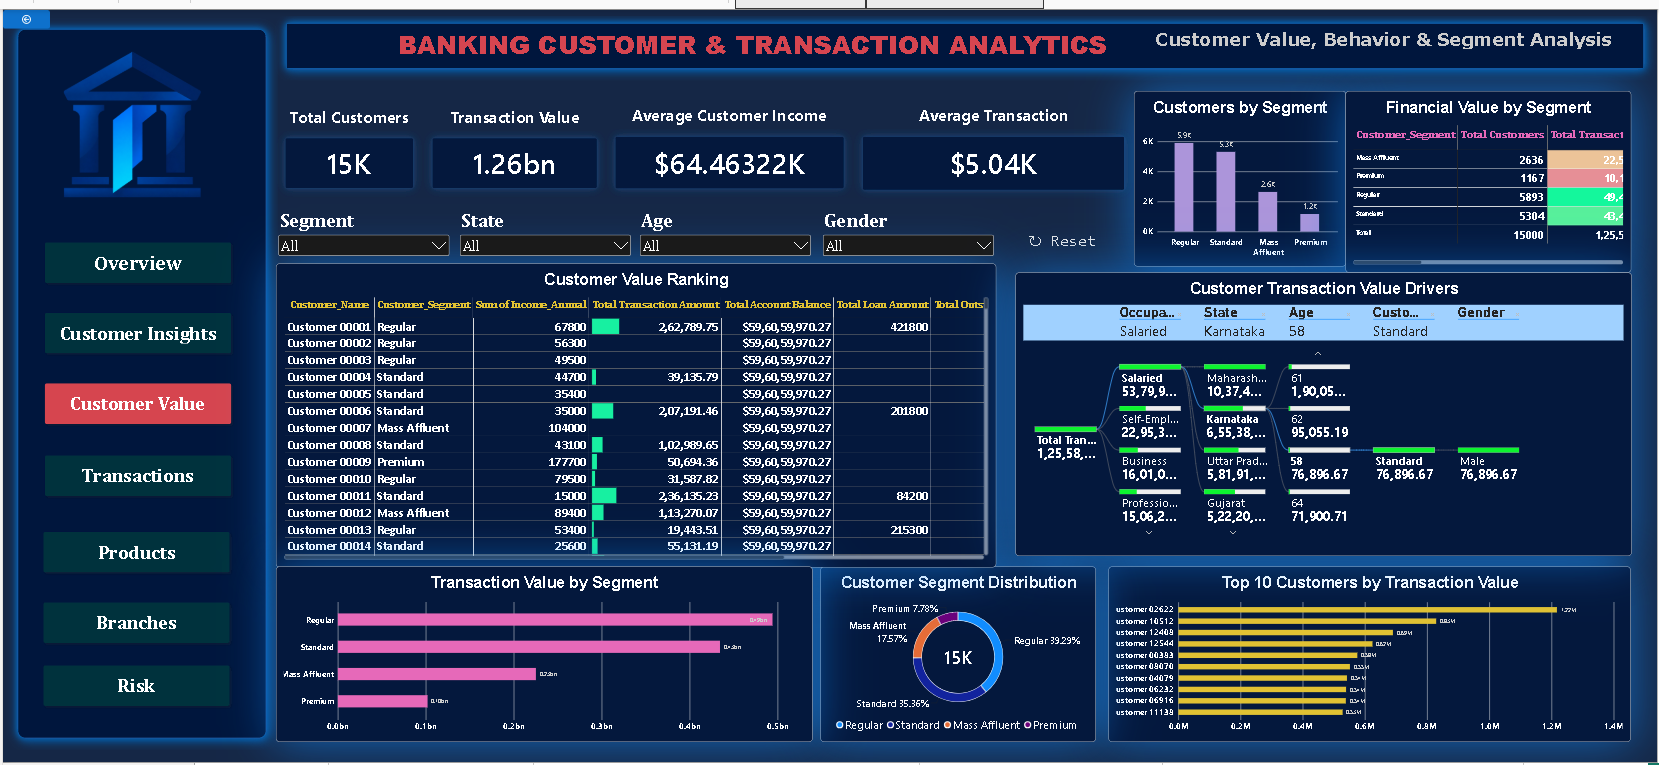

Layout of this report page (visuals, bound fields, positions):
{"tool":"powerbi","page":{"name":"Customer Segmentation & Profitability","canvas":[3520,1600],"ordinal":2},"visuals":[{"type":"cardVisual","title":"Average Customer Income","fields":{"Data":["Dim_Customers.Average Customer Income"]},"box":[1284.1,202.4,526.2,198.7],"z":0},{"type":"clusteredBarChart","title":"Top 10 Customers by Transaction Value","fields":{"Category":["Dim_Customers.Customer_Name"],"Y":["Fact_Transactions.Total Transaction Amount"]},"box":[2353.5,1185.4,1111.6,373.4],"z":1000},{"type":"clusteredColumnChart","title":"Customers by Segment","fields":{"Category":["Dim_Customers.Customer_Segment"],"Y":["Dim_Customers.Total Customers"]},"box":[2405.6,173.7,451.6,373.4],"z":2000},{"type":"donutChart","title":"Customer Segment Distribution","fields":{"Category":["Dim_Customers.Customer_Segment"],"Y":["Dim_Customers.Total Customers"]},"box":[1741.2,1185.4,586.2,373.4],"z":3000},{"type":"pivotTable","title":"Financial Value by Segment","fields":{"Rows":["Dim_Customers.Customer_Segment"],"Values":["Dim_Customers.Total Customers","Fact_Transactions.Total Transaction Amount","Dim_Accounts.Total Account Balance","Fact_Loans.Total Loan Amount","Fact_Credit_Cards.Total Outstanding Credit Card Amount"]},"box":[2857.1,173.7,607.9,386.5],"z":4000},{"type":"shape","box":[5,15,578.8,1558.8],"z":5000},{"type":"shape","box":[578.6,3.6,2939.3,146.4],"z":6000},{"type":"textbox","box":[839.3,35.7,2175,82.1],"z":7000},{"type":"textbox","box":[2453.1,38.9,1010.9,81.3],"z":8000},{"type":"image","box":[75,78.6,403.6,335.7],"z":9000},{"type":"cardVisual","title":"Transaction Value","fields":{"Data":["Fact_Transactions.Total Transaction Amount"]},"box":[894.5,204.1,390.8,195.4],"z":10000},{"type":"cardVisual","title":"Total Customers","fields":{"Data":["Dim_Customers.Total Customers"]},"box":[581.8,204.1,312.6,195.4],"z":11000},{"type":"cardVisual","title":"Average Transaction","fields":{"Data":["Fact_Transactions.Average Transaction Amount"]},"box":[1810.3,202.4,596.1,202.4],"z":12000},{"type":"actionButton","box":[2153.7,451.6,199.7,86.8],"z":14000},{"type":"actionButton","title":"OVERVIEW","box":[80,485,415,105],"z":15000},{"type":"actionButton","title":"OVERVIEW","box":[80,635,415,105],"z":16000},{"type":"actionButton","title":"OVERVIEW","box":[80,785,415,105],"z":17000},{"type":"actionButton","title":"OVERVIEW","box":[80,940,415,105],"z":18000},{"type":"actionButton","title":"OVERVIEW","box":[78.2,1102.9,415,105],"z":19000},{"type":"tableEx","title":"Customer Value Ranking","fields":{"Values":["Dim_Customers.Customer_Name","Dim_Customers.Customer_Segment","Sum(Dim_Customers.Income_Annual)","Fact_Transactions.Total Transaction Amount","Dim_Accounts.Total Account Balance","Fact_Loans.Total Loan Amount","Fact_Credit_Cards.Total Outstanding Credit Card Amount","Fact_Transactions.Customer Transaction Rank"]},"box":[581.8,538.4,1532.8,647],"z":20000},{"type":"actionButton","box":[0,0,100,40],"z":21000},{"type":"slicer","fields":{"Values":["Dim_Customers.Age"]},"box":[1350.4,425.5,373.4,134.6],"z":22000},{"type":"slicer","fields":{"Values":["Dim_Customers.Customer_Segment"]},"box":[581.8,425.5,373.4,134.6],"z":23000},{"type":"slicer","fields":{"Values":["Dim_Customers.State"]},"box":[968.3,425.5,373.4,134.6],"z":24000},{"type":"slicer","fields":{"Values":["Dim_Customers.Gender"]},"box":[1741.2,425.5,373.4,134.6],"z":25000},{"type":"actionButton","title":"OVERVIEW","box":[78.2,1250.5,415,105],"z":26000},{"type":"actionButton","title":"OVERVIEW","box":[78.2,1385.1,415,105],"z":27000},{"type":"decompositionTreeVisual","title":"Customer Transaction Value Drivers","fields":{"Analyze":["Fact_Transactions.Total Transaction Amount"],"ExplainBy":["Dim_Customers.Occupation","Dim_Customers.State","Dim_Customers.Age","Dim_Customers.Customer_Segment","Dim_Customers.Gender"]},"box":[2153.7,560.1,1311.3,603.6],"z":28000},{"type":"clusteredBarChart","title":"Transaction Value by Segment","fields":{"Category":["Dim_Customers.Customer_Segment"],"Y":["Fact_Transactions.Total Transaction Amount"]},"box":[581.8,1185.4,1142,373.4],"z":29000}]}

Visuals, with their boxes on the page's 3520x1600 design canvas (x1, y1, x2, y2). These are canvas units, not pixel positions in the 1659x765 screenshot, which may show the page scaled, cropped or inside an application window:
"Average Customer Income" cardVisual: {"left": 1284, "top": 202, "right": 1810, "bottom": 401}
"Top 10 Customers by Transaction Value" clusteredBarChart: {"left": 2354, "top": 1185, "right": 3465, "bottom": 1559}
"Customers by Segment" clusteredColumnChart: {"left": 2406, "top": 174, "right": 2857, "bottom": 547}
"Customer Segment Distribution" donutChart: {"left": 1741, "top": 1185, "right": 2327, "bottom": 1559}
"Financial Value by Segment" pivotTable: {"left": 2857, "top": 174, "right": 3465, "bottom": 560}
shape: {"left": 5, "top": 15, "right": 584, "bottom": 1574}
shape: {"left": 579, "top": 4, "right": 3518, "bottom": 150}
textbox: {"left": 839, "top": 36, "right": 3014, "bottom": 118}
textbox: {"left": 2453, "top": 39, "right": 3464, "bottom": 120}
image: {"left": 75, "top": 79, "right": 479, "bottom": 414}
"Transaction Value" cardVisual: {"left": 894, "top": 204, "right": 1285, "bottom": 400}
"Total Customers" cardVisual: {"left": 582, "top": 204, "right": 894, "bottom": 400}
"Average Transaction" cardVisual: {"left": 1810, "top": 202, "right": 2406, "bottom": 405}
actionButton: {"left": 2154, "top": 452, "right": 2353, "bottom": 538}
"OVERVIEW" actionButton: {"left": 80, "top": 485, "right": 495, "bottom": 590}
"OVERVIEW" actionButton: {"left": 80, "top": 635, "right": 495, "bottom": 740}
"OVERVIEW" actionButton: {"left": 80, "top": 785, "right": 495, "bottom": 890}
"OVERVIEW" actionButton: {"left": 80, "top": 940, "right": 495, "bottom": 1045}
"OVERVIEW" actionButton: {"left": 78, "top": 1103, "right": 493, "bottom": 1208}
"Customer Value Ranking" tableEx: {"left": 582, "top": 538, "right": 2115, "bottom": 1185}
actionButton: {"left": 0, "top": 0, "right": 100, "bottom": 40}
slicer - Dim_Customers.Age: {"left": 1350, "top": 426, "right": 1724, "bottom": 560}
slicer - Dim_Customers.Customer_Segment: {"left": 582, "top": 426, "right": 955, "bottom": 560}
slicer - Dim_Customers.State: {"left": 968, "top": 426, "right": 1342, "bottom": 560}
slicer - Dim_Customers.Gender: {"left": 1741, "top": 426, "right": 2115, "bottom": 560}
"OVERVIEW" actionButton: {"left": 78, "top": 1250, "right": 493, "bottom": 1356}
"OVERVIEW" actionButton: {"left": 78, "top": 1385, "right": 493, "bottom": 1490}
"Customer Transaction Value Drivers" decompositionTreeVisual: {"left": 2154, "top": 560, "right": 3465, "bottom": 1164}
"Transaction Value by Segment" clusteredBarChart: {"left": 582, "top": 1185, "right": 1724, "bottom": 1559}
